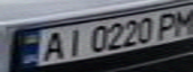0: (136, 15, 160, 44), (87, 23, 109, 53)
2: (106, 19, 127, 52), (121, 17, 142, 47)
A: (36, 29, 69, 62)
I: (60, 26, 87, 57)
M: (169, 6, 193, 36)
P: (151, 10, 184, 39)
